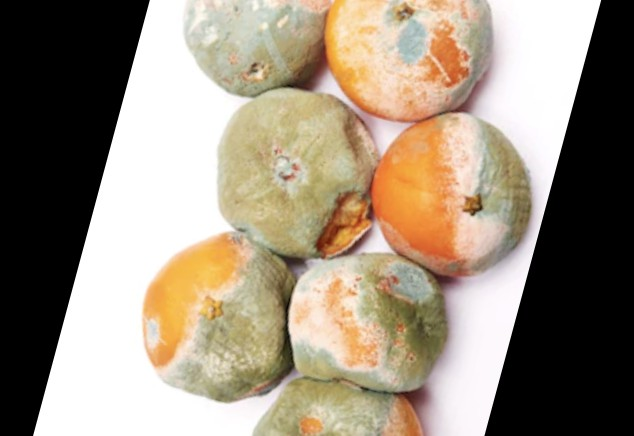rotten_orange: (217, 88, 377, 255), (374, 113, 534, 276), (143, 234, 291, 402), (287, 254, 448, 392), (327, 1, 493, 119), (183, 1, 329, 96), (253, 377, 429, 436)
